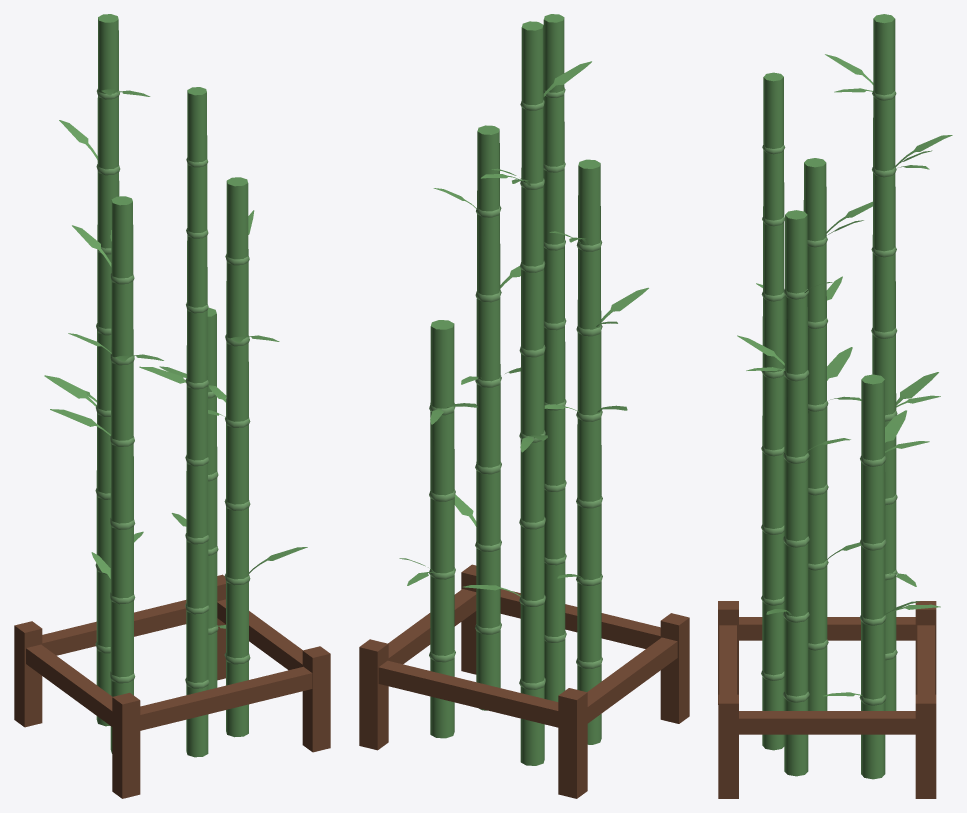
The model's file is BambooBehindFence.gltf.
The picture shows the model from 3 angles, left to right: view 1: azimuth 30°, elevation 25°; view 2: azimuth 150°, elevation 25°; view 3: azimuth 270°, elevation 25°; orthographic projection. The views are drawn at different scales.
Parts seen in each view (by area): view 1: BambooBehindFence; view 2: BambooBehindFence; view 3: BambooBehindFence.
Part boxes in pixels (x1,y1,x2,y2): BambooBehindFence: [14, 14, 330, 798]; BambooBehindFence: [359, 14, 689, 798]; BambooBehindFence: [718, 14, 952, 798].
Bounding box in the file's own units: 0.7138 × 2.22 × 0.6635.
Materials: 1 (1 with a texture image).
